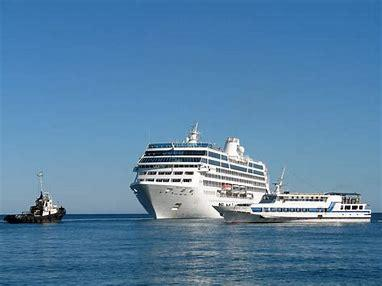Ship: (132, 124, 270, 220), (214, 175, 372, 224), (5, 192, 67, 225)
